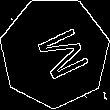M_SW: (23, 21, 87, 84)
